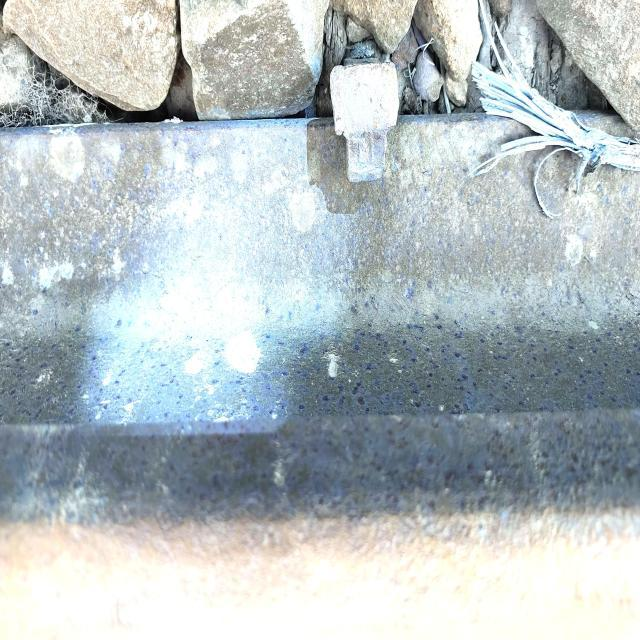Good Fasteners: (330, 62, 399, 182)
